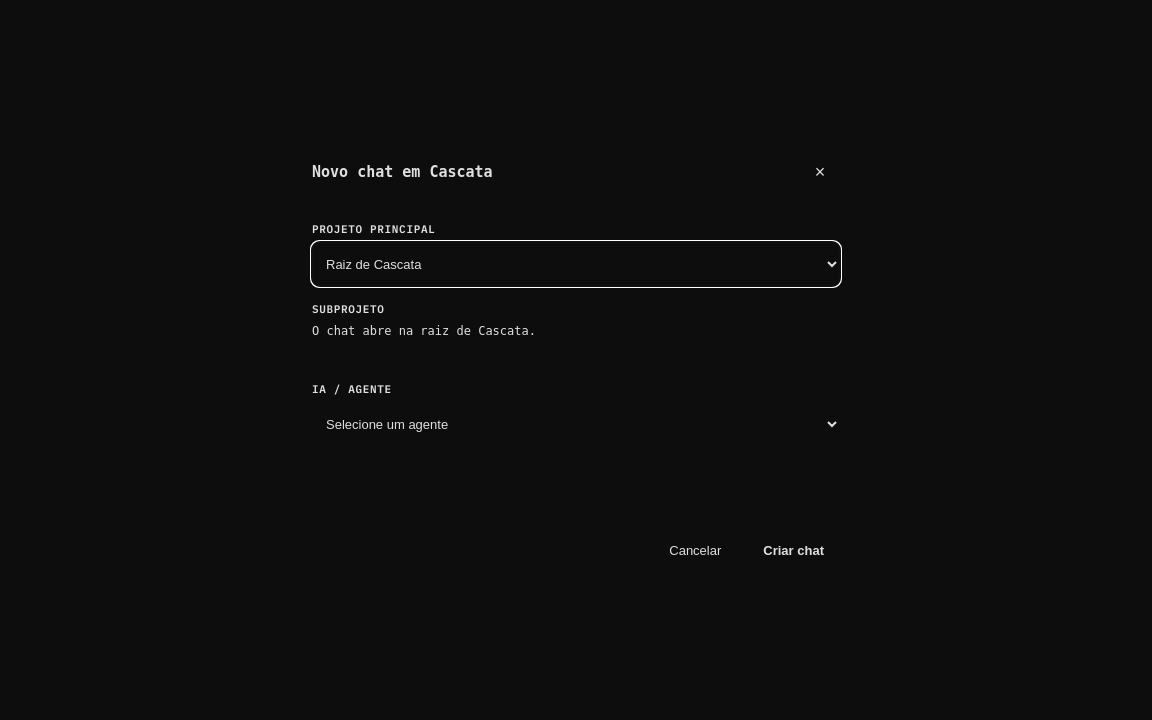
Scenario: NewChatSheet — presentation="modal": which element receives initial focus › does not steal focus when the level-2 field appears
Select "principal" in the dropdown named "Projeto principal" at (576, 264), box 312,242 -> 840,286
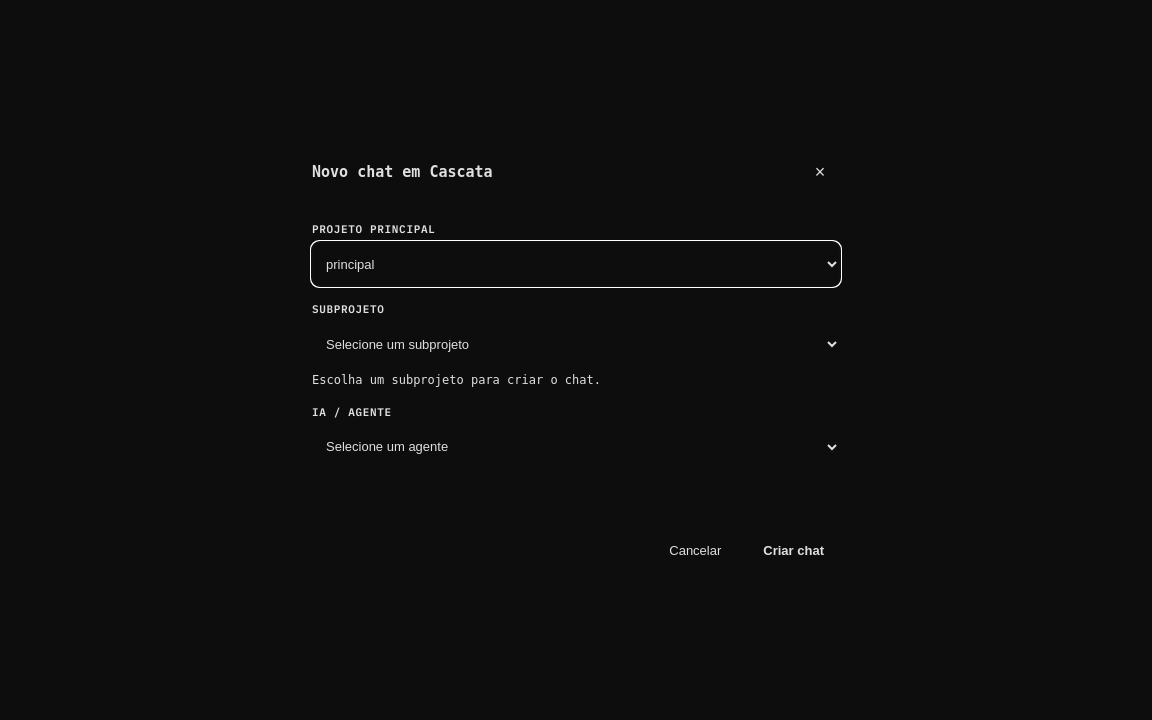
Check: the dropdown labelled "Subprojeto" is shown, box 312,322 -> 840,366
